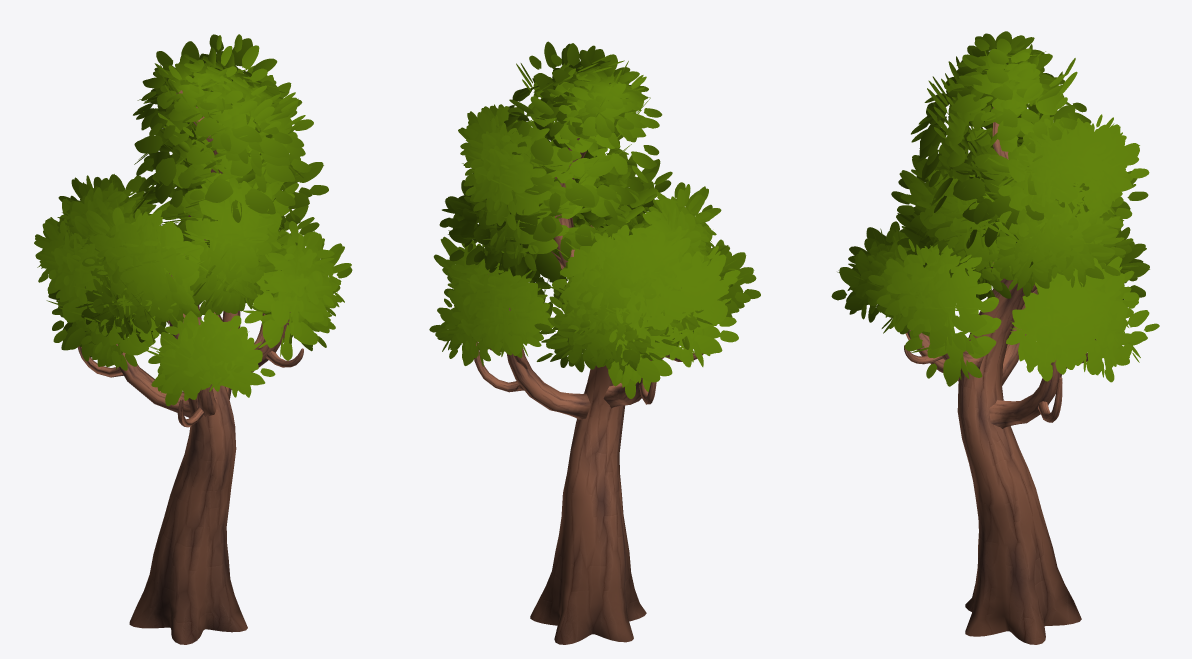
The model's file is tree.glb.
3 views of the same model, side by side, from view 1: azimuth 30°, elevation 25°; view 2: azimuth 150°, elevation 25°; view 3: azimuth 270°, elevation 25° (orthographic). The views are drawn at different scales.
Parts seen in each view (by area): view 1: CommonTree_2; view 2: CommonTree_2; view 3: CommonTree_2.
Part boxes in pixels (<box>): CommonTree_2: <box>34,34,352,644</box>; CommonTree_2: <box>429,41,760,644</box>; CommonTree_2: <box>831,31,1159,644</box>.
Size of the model in its own units: 0.5841 by 1 by 0.5594.
2 materials, 2 textured.
